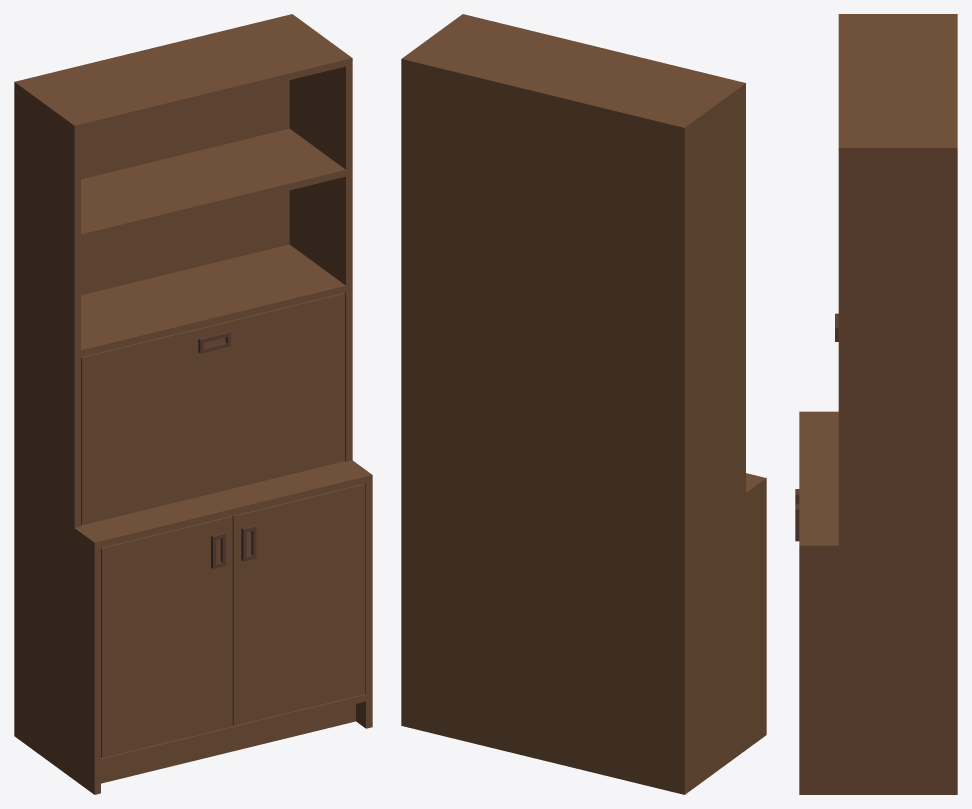
Rendered from secretary.glb.
3 renders of one model, left to right at view 1: azimuth 30°, elevation 25°; view 2: azimuth 150°, elevation 25°; view 3: azimuth 270°, elevation 25°, orthographic. The views are drawn at different scales.
Visible parts, largest first — view 1: secretary; view 2: secretary; view 3: secretary.
Boxes of the visible parts, box(x1,y1,x2,y2) form: secretary: box(14, 14, 372, 794); secretary: box(401, 14, 766, 794); secretary: box(795, 14, 957, 794).
Size of the model in its own units: 32 by 72 by 16.4.
